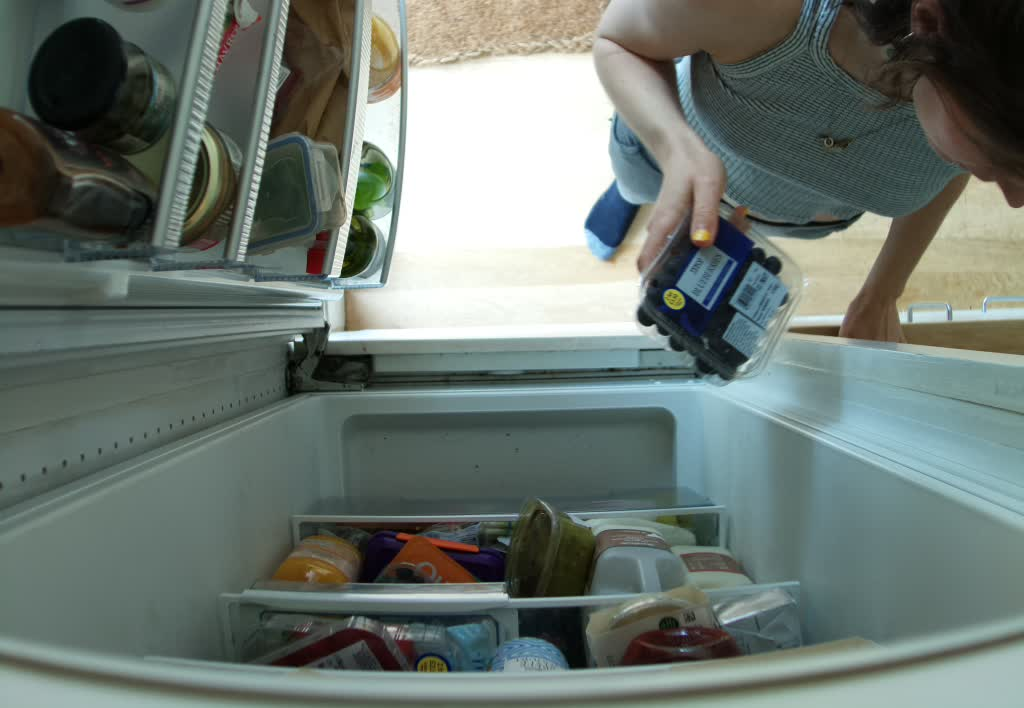soft-fruit: (636, 203, 796, 384)
